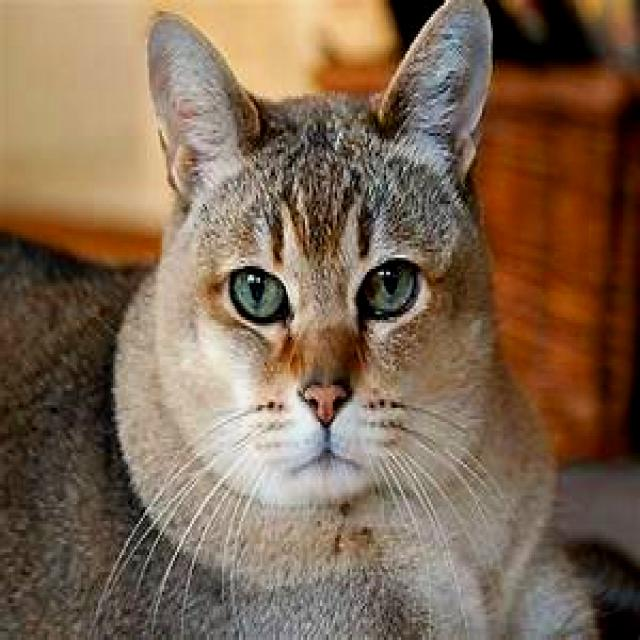KEDI: (2, 0, 595, 640)
